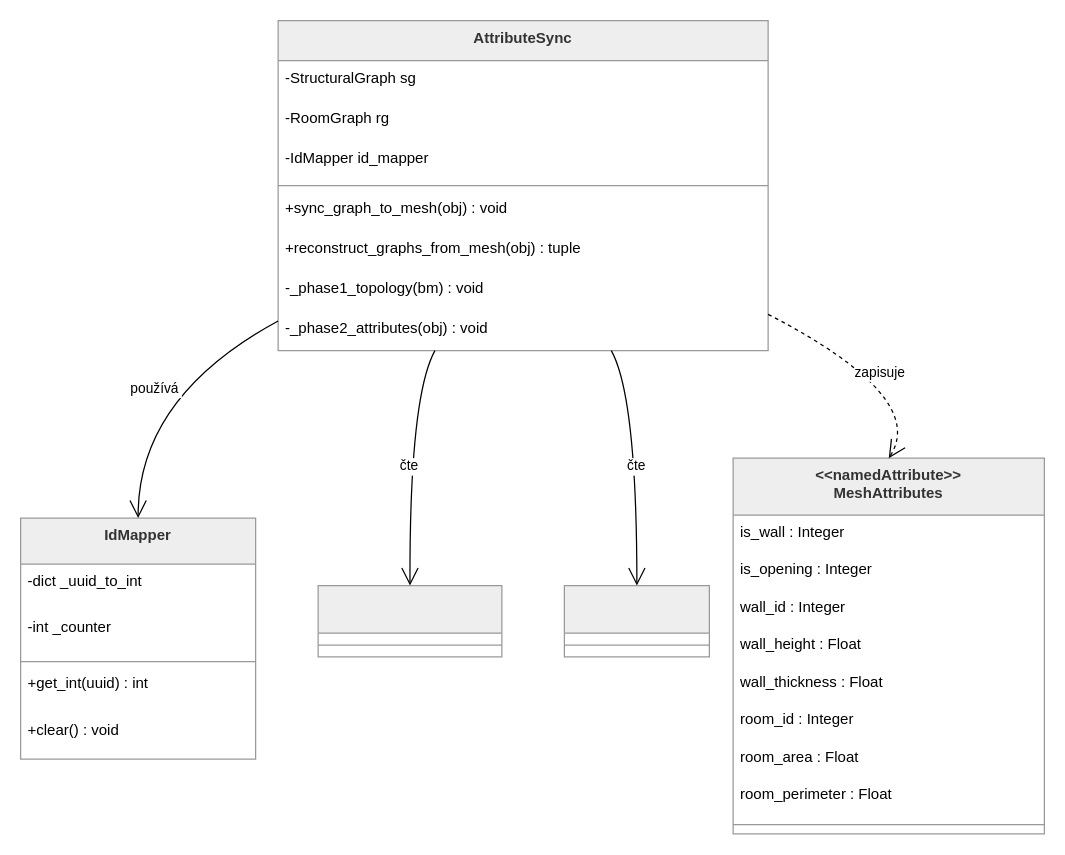
This 1065x855 diagram has some shape labels left out. The shapes that lost their labels are listed below. From the top down, each one's box as (x1, y1, x2, y2) in pixels, then its label:
(317, 584, 502, 657): StructuralGraph
(563, 584, 709, 657): RoomGraph
